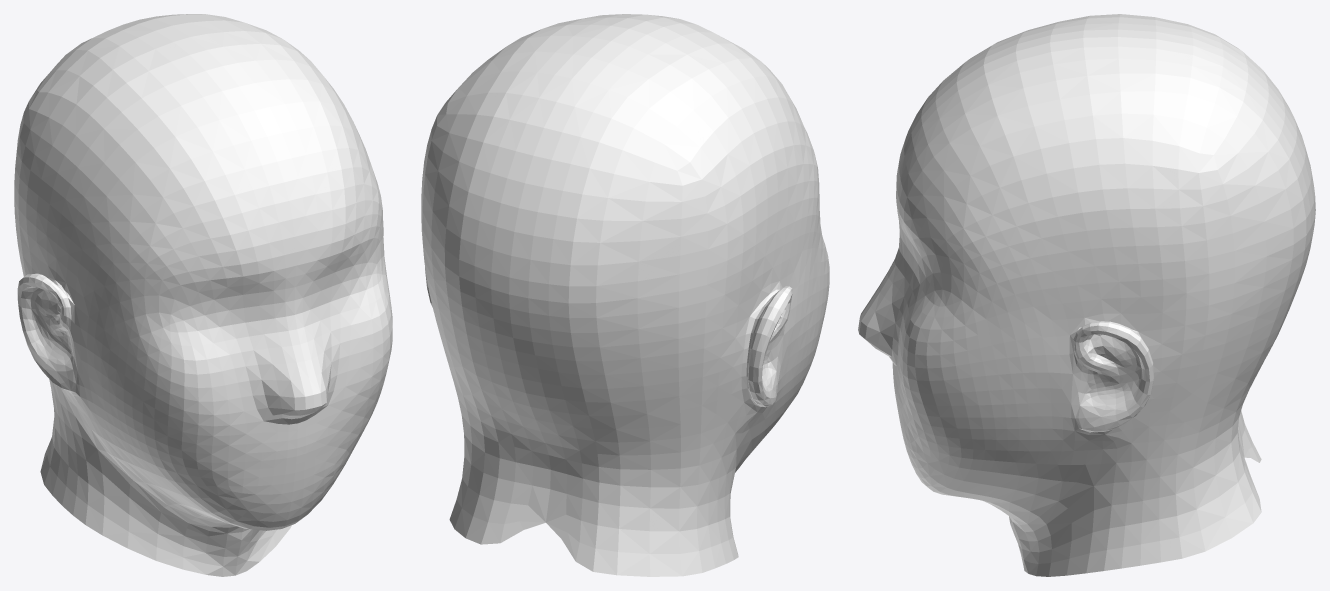
Rendered from StandHead.FBX.
3 renders of one model, left to right at view 1: azimuth 30°, elevation 25°; view 2: azimuth 150°, elevation 25°; view 3: azimuth 270°, elevation 25°, orthographic. The views are drawn at different scales.
Parts seen in each view (by area): view 1: Sphere002; view 2: Sphere002; view 3: Sphere002.
Boxes of the visible parts, box(x1,y1,x2,y2) form: Sphere002: box(14, 14, 392, 576); Sphere002: box(421, 14, 829, 576); Sphere002: box(858, 14, 1315, 576).
Size of the model in its own units: 388 by 576 by 451.
1 material, 1 textured.
